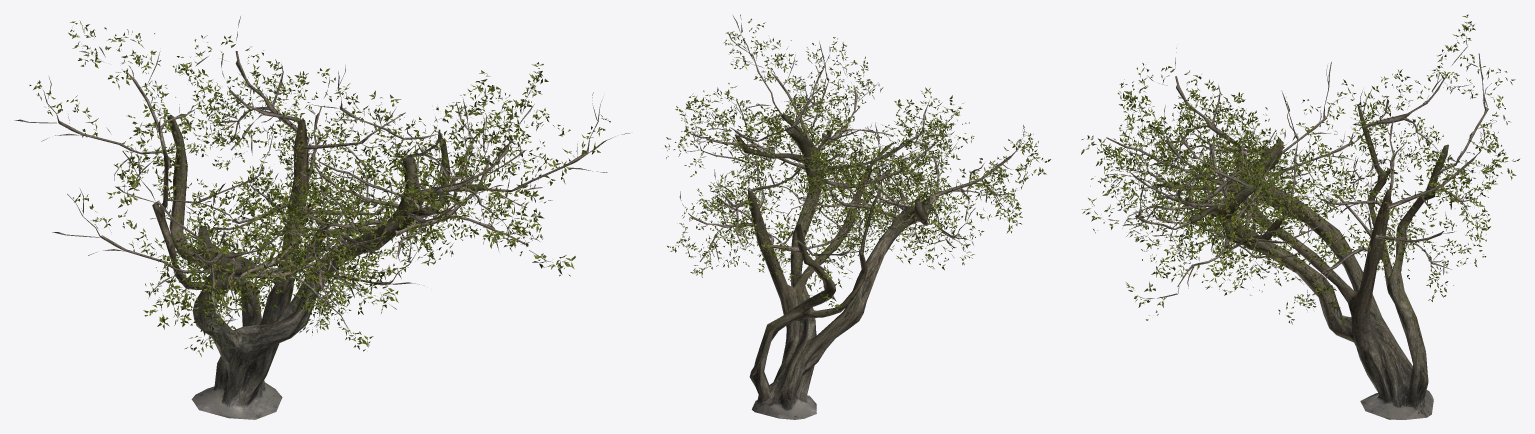
The model's file is island_tree_02.glb.
3 renders of one model, left to right at view 1: azimuth 30°, elevation 25°; view 2: azimuth 150°, elevation 25°; view 3: azimuth 270°, elevation 25°, orthographic. The views are drawn at different scales.
Parts seen in each view (by area): view 1: island_tree_02_LOD0; view 2: island_tree_02_LOD0; view 3: island_tree_02_LOD0.
Boxes of the visible parts, x1,y1,x2,y2 form: island_tree_02_LOD0: (14,16,629,419); island_tree_02_LOD0: (664,14,1050,419); island_tree_02_LOD0: (1081,14,1519,419).
Bounding box in the file's own units: 4.21 × 3.4 × 4.03.
3 materials, 3 textured.
